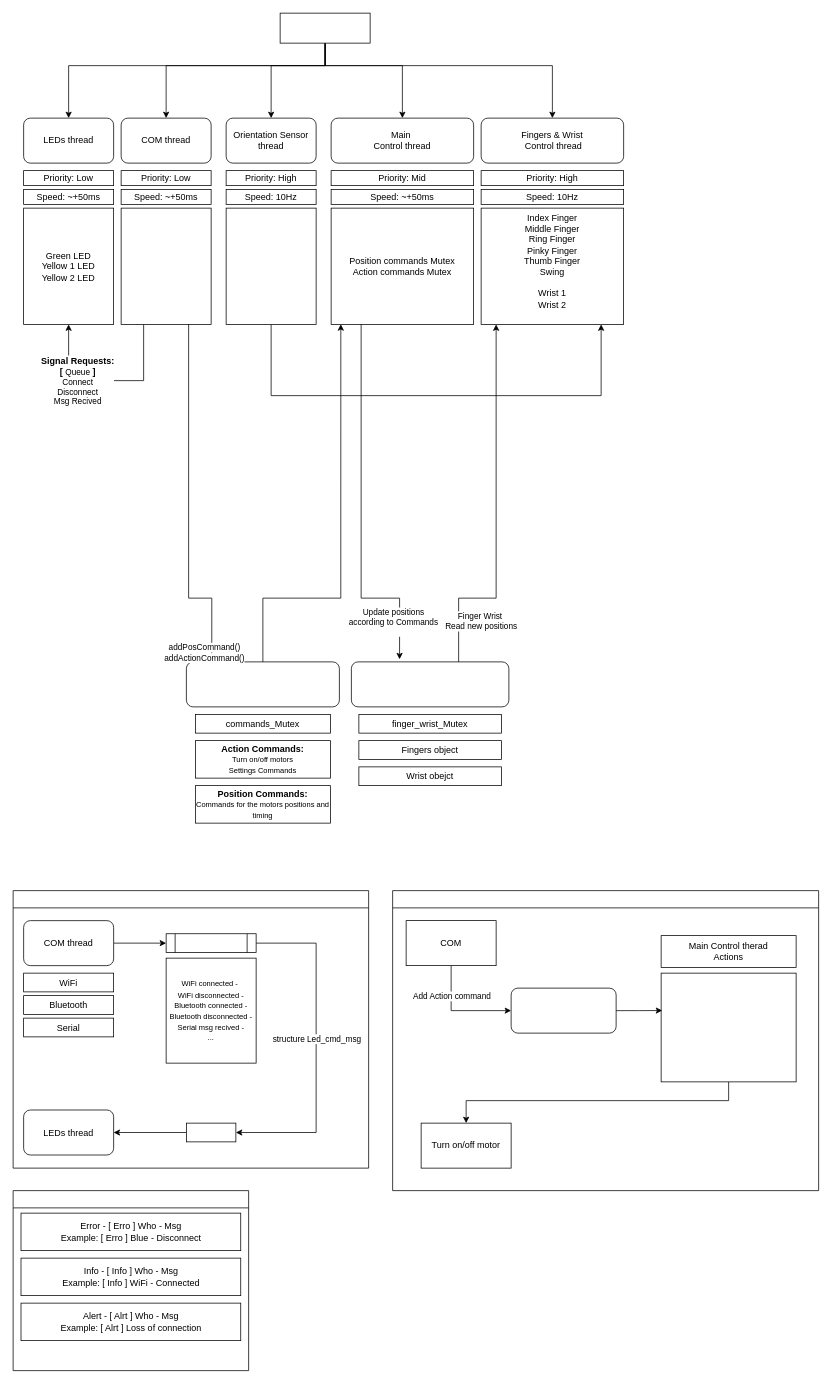
This 832x1384 diagram has some shape labels left out. Each missing label, with the box of its shape:
Action command buffer: (510, 987, 616, 1033)
Action commander: (392, 890, 819, 1191)
COM thread and LEDs thread communication: (12, 890, 369, 1168)
Gyro & Accel: (225, 207, 316, 324)
Memory: Commands Array: (186, 661, 339, 707)
Memory: Fingers & Wrist Variables: (351, 661, 509, 707)
Msgs Structure: (12, 1190, 249, 1371)
Queue: (186, 1122, 236, 1142)
Signal types:: (165, 933, 256, 952)
Turn on/off motors ...: (660, 972, 796, 1082)
WiFi Bluetooth Serial: (120, 207, 211, 324)
Yubi Hand ESP32: (279, 12, 370, 43)
